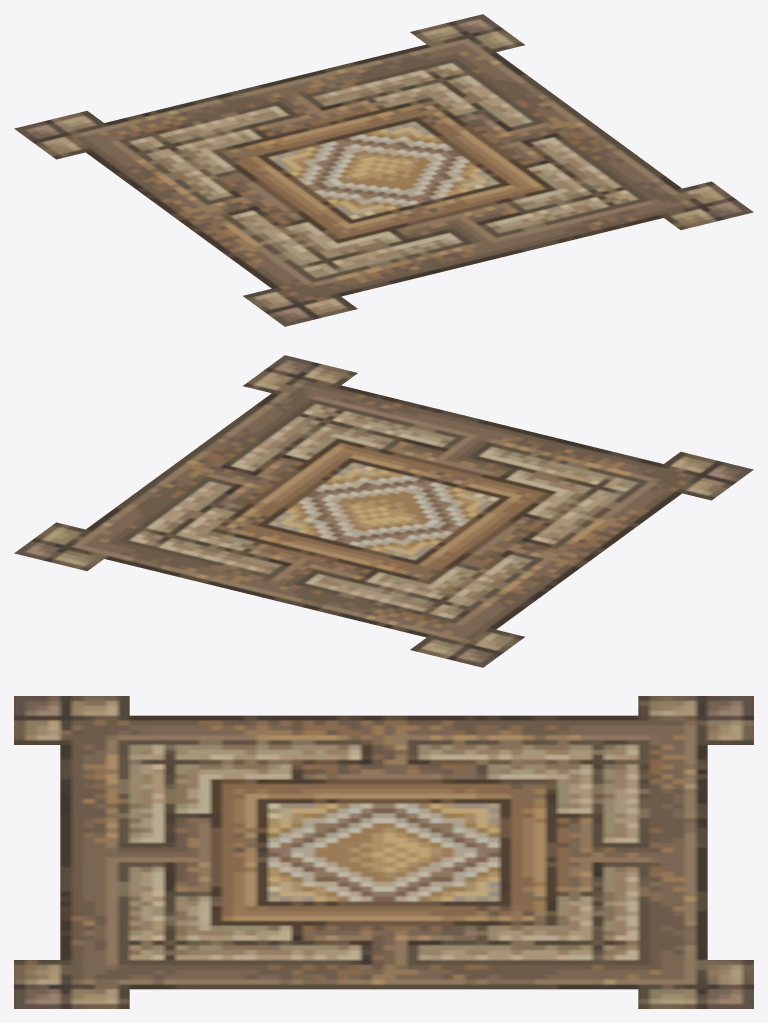
Rendered from ObjMD_Desert_Palace_RoadB.FBX.
3 renders of one model, top to bottom at view 1: azimuth 30°, elevation 25°; view 2: azimuth 150°, elevation 25°; view 3: azimuth 270°, elevation 25°, orthographic. The views are drawn at different scales.
Parts seen in each view (by area): view 1: ObjMD_Desert_Palace_RoadB; view 2: ObjMD_Desert_Palace_RoadB; view 3: ObjMD_Desert_Palace_RoadB.
Part boxes in pixels (left/top/right/bottom): ObjMD_Desert_Palace_RoadB: left=14, top=14, right=753, bottom=326; ObjMD_Desert_Palace_RoadB: left=14, top=355, right=753, bottom=667; ObjMD_Desert_Palace_RoadB: left=14, top=696, right=753, bottom=1008.
Size of the model in its own units: 400 by 2.44e-14 by 400.
